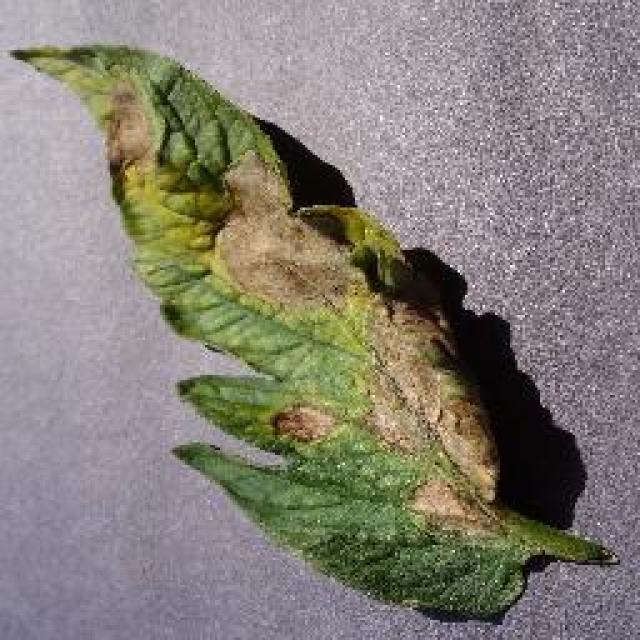Tomato Late Blight: (19, 20, 628, 522)
